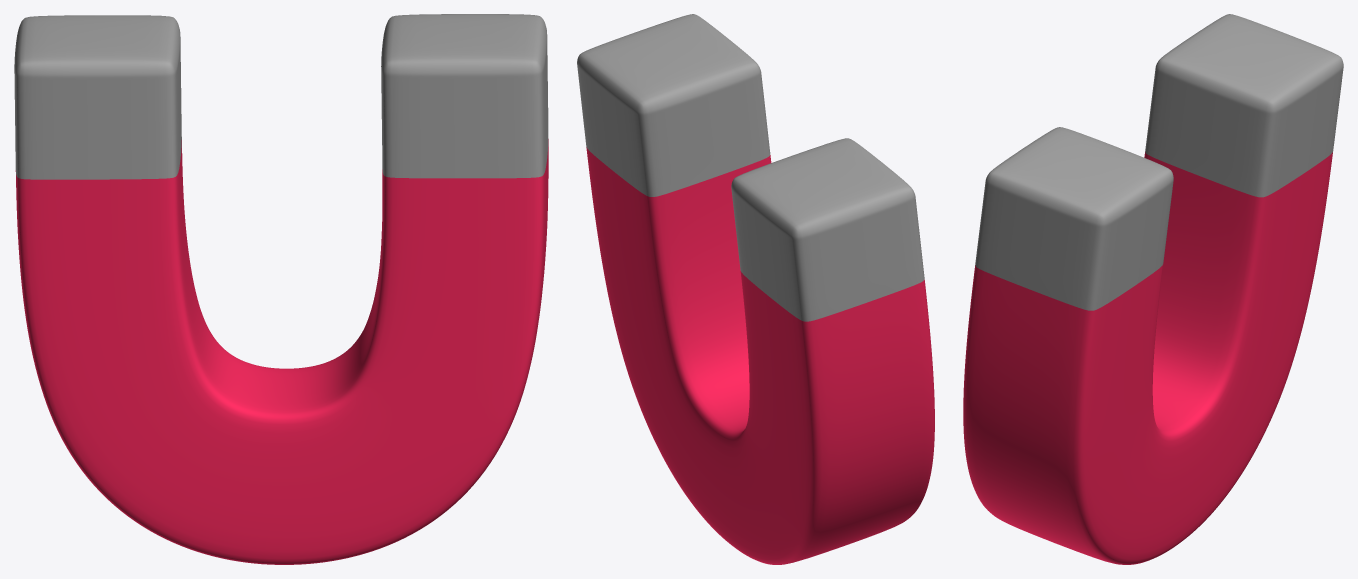
3 renders of one model, left to right at view 1: azimuth 30°, elevation 25°; view 2: azimuth 150°, elevation 25°; view 3: azimuth 270°, elevation 25°, orthographic. The views are drawn at different scales.
Visible parts, largest first — view 1: 17; view 2: 17; view 3: 17.
Part boxes in pixels (x1,y1,x2,y2): 17: (14, 14, 548, 564); 17: (577, 14, 934, 564); 17: (963, 14, 1343, 564).
Bounding box in the file's own units: 7.67 × 7.89 × 6.16.
